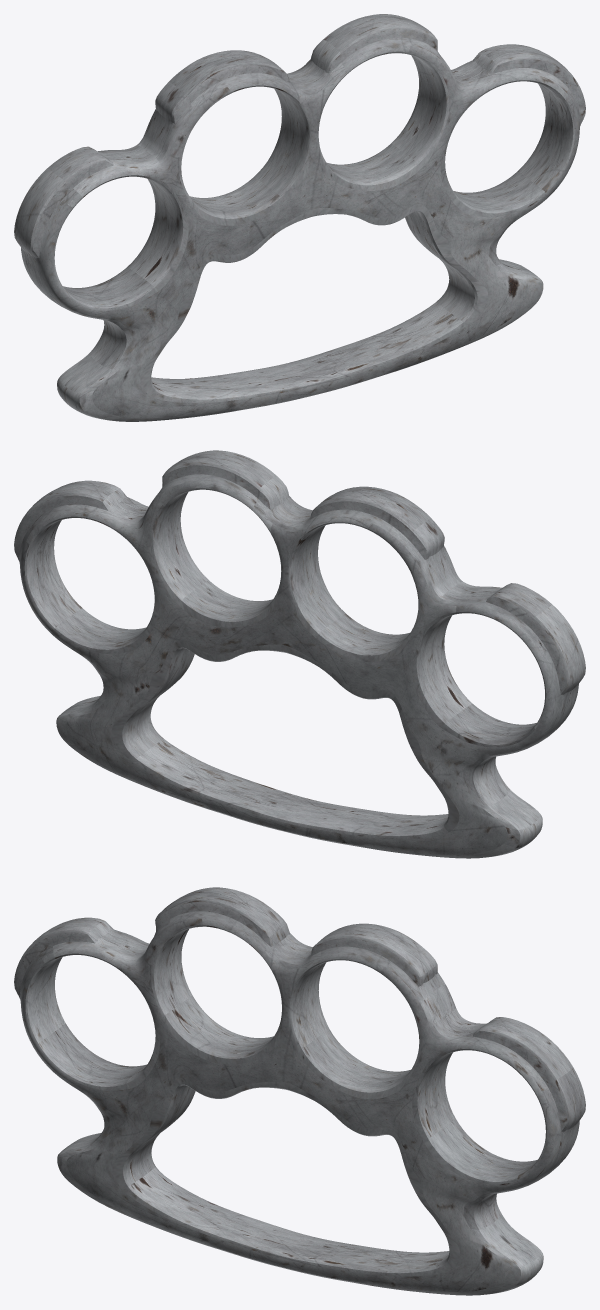
File: brass_knuckle.glb
3 renders of one model, top to bottom at view 1: azimuth 30°, elevation 25°; view 2: azimuth 150°, elevation 25°; view 3: azimuth 330°, elevation 25°, orthographic.
Parts seen in each view (by area): view 1: Object_2; view 2: Object_2; view 3: Object_2.
Part boxes in pixels (<box>): Object_2: <box>14,14,585,421</box>; Object_2: <box>14,450,585,858</box>; Object_2: <box>14,887,585,1295</box>.
Bounding box in the file's own units: 10 × 6 × 0.9.
1 material, 1 textured.
